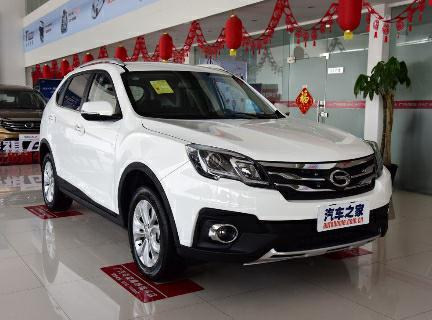广汽传祺-传祺GS5Super: (32, 52, 406, 282)
